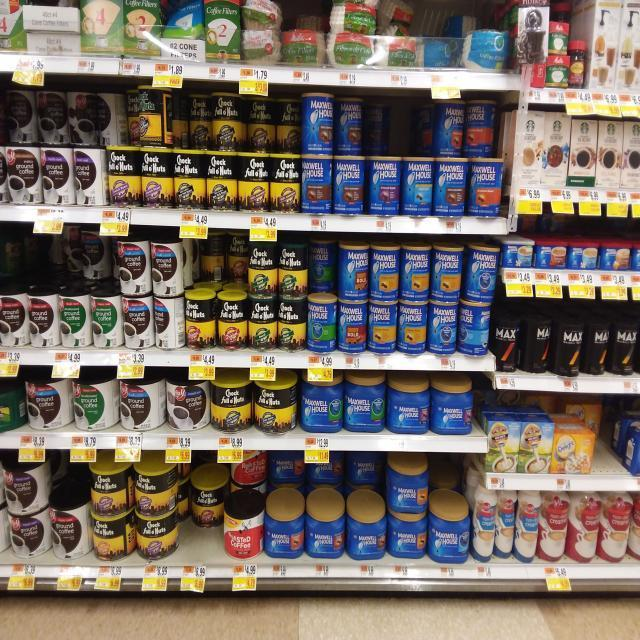Imprecise: (0, 81, 139, 210), (170, 86, 301, 208), (0, 222, 115, 352), (265, 448, 387, 558), (433, 82, 508, 214), (186, 234, 250, 348), (360, 97, 404, 212), (228, 452, 267, 564), (180, 458, 222, 556), (306, 239, 339, 350), (572, 399, 616, 482), (162, 0, 210, 66), (280, 8, 328, 68), (376, 0, 416, 67), (454, 13, 499, 70)
